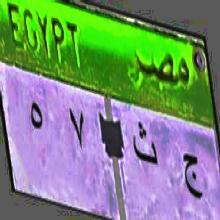5: (28, 97, 45, 139)
7: (69, 102, 88, 162)
jeem: (180, 144, 203, 206)
thaa: (132, 114, 160, 179)
